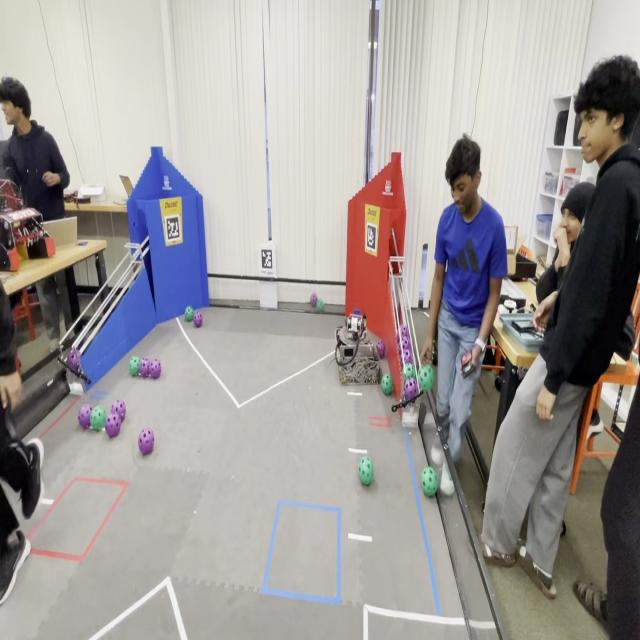artifact_green: (439, 465, 455, 497), (421, 467, 438, 497), (418, 364, 434, 391), (359, 456, 373, 486), (90, 406, 106, 431), (403, 378, 419, 400), (67, 347, 81, 371), (129, 356, 141, 377), (381, 374, 393, 395), (402, 363, 415, 380), (376, 340, 386, 359), (185, 306, 194, 321), (310, 292, 318, 308), (316, 299, 324, 312)
artifact_purple: (138, 430, 154, 455), (105, 413, 121, 438), (78, 405, 92, 429), (67, 348, 80, 371), (404, 378, 418, 399), (111, 400, 125, 421), (150, 360, 161, 379), (140, 358, 149, 377), (403, 349, 414, 363), (377, 340, 385, 358), (193, 312, 202, 327), (401, 337, 410, 350), (400, 325, 409, 337), (310, 293, 317, 307), (396, 332, 402, 344), (397, 336, 401, 347)
